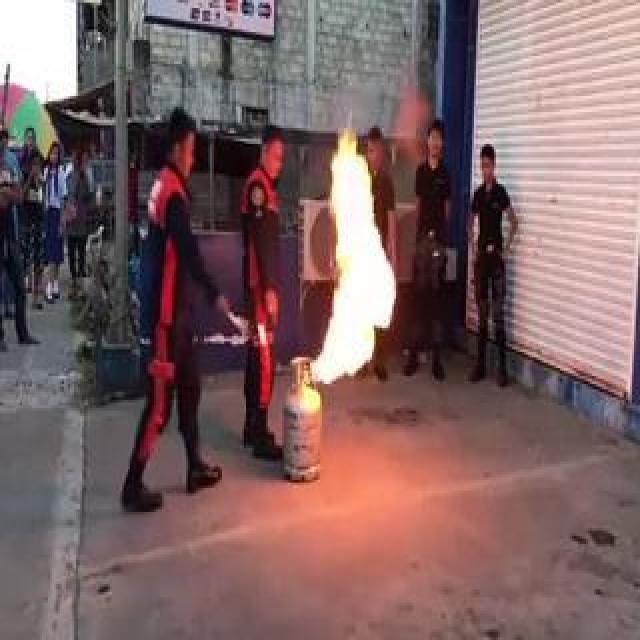Smoke: (308, 129, 402, 391)
